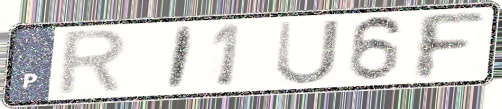1: (208, 21, 243, 91)
6: (348, 13, 412, 86)
F: (414, 11, 488, 83)
I: (163, 24, 198, 93)
R: (52, 26, 132, 100)
U: (273, 17, 343, 87)
